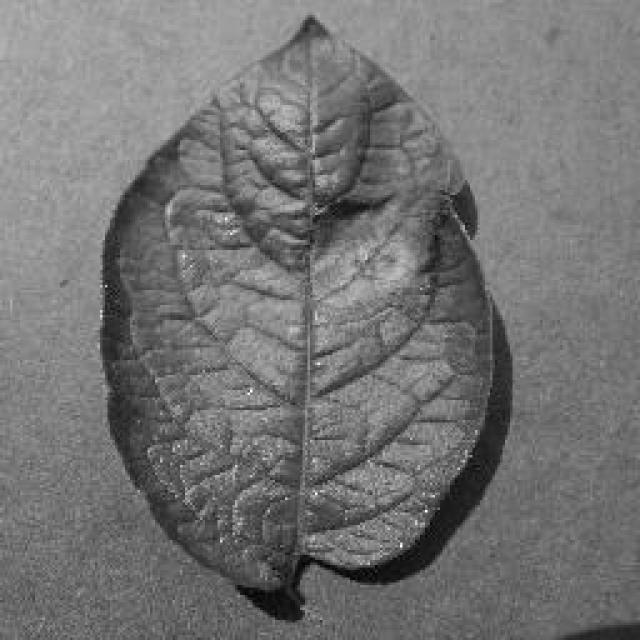Potato: (97, 12, 505, 602)
